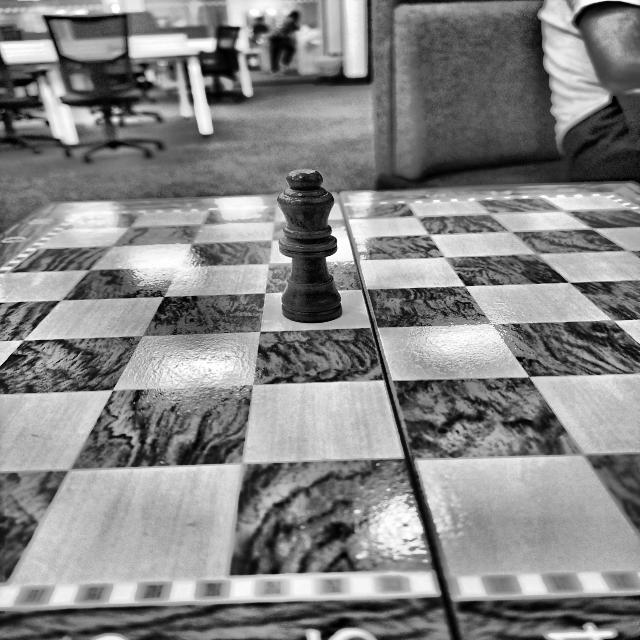black-queen: (277, 170, 343, 324)
